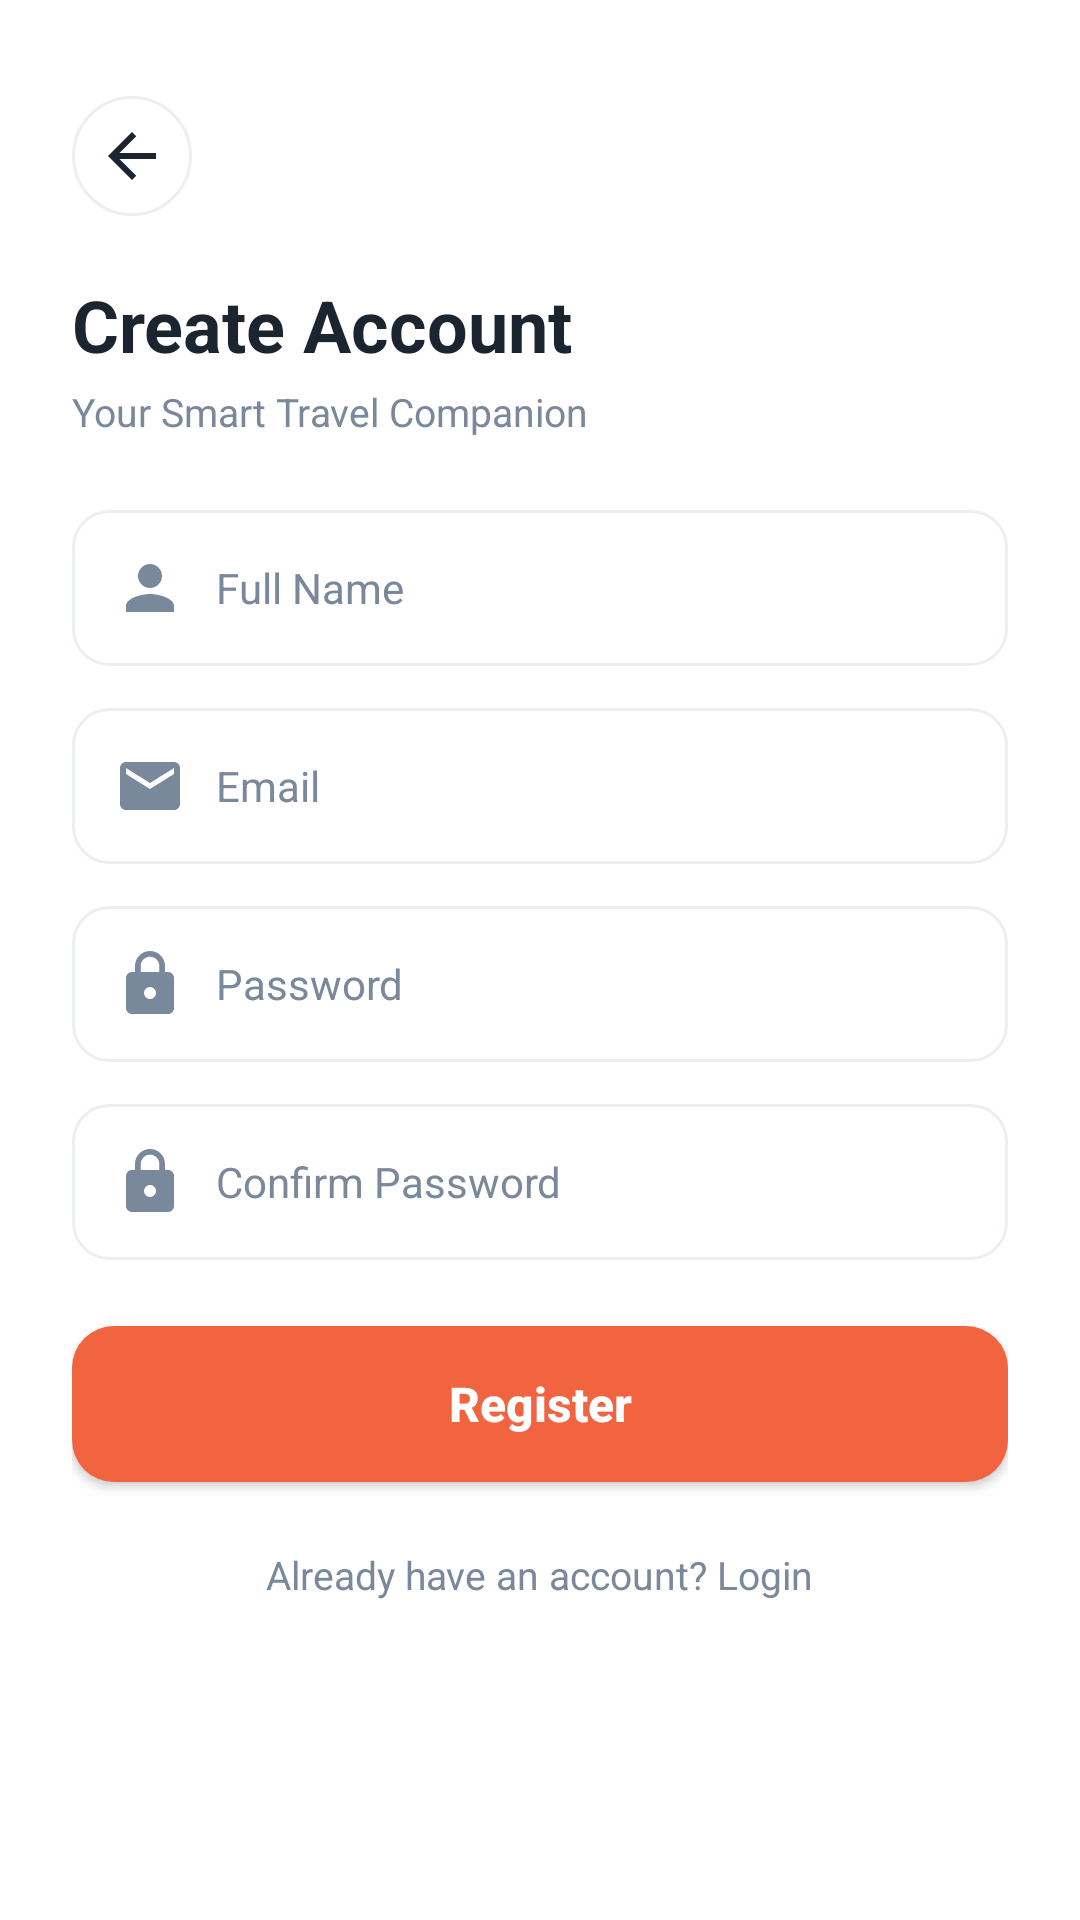

Icons on this 1080x1920 Android screen, each with the point to tap as (x,y):
Back: (132,156)
